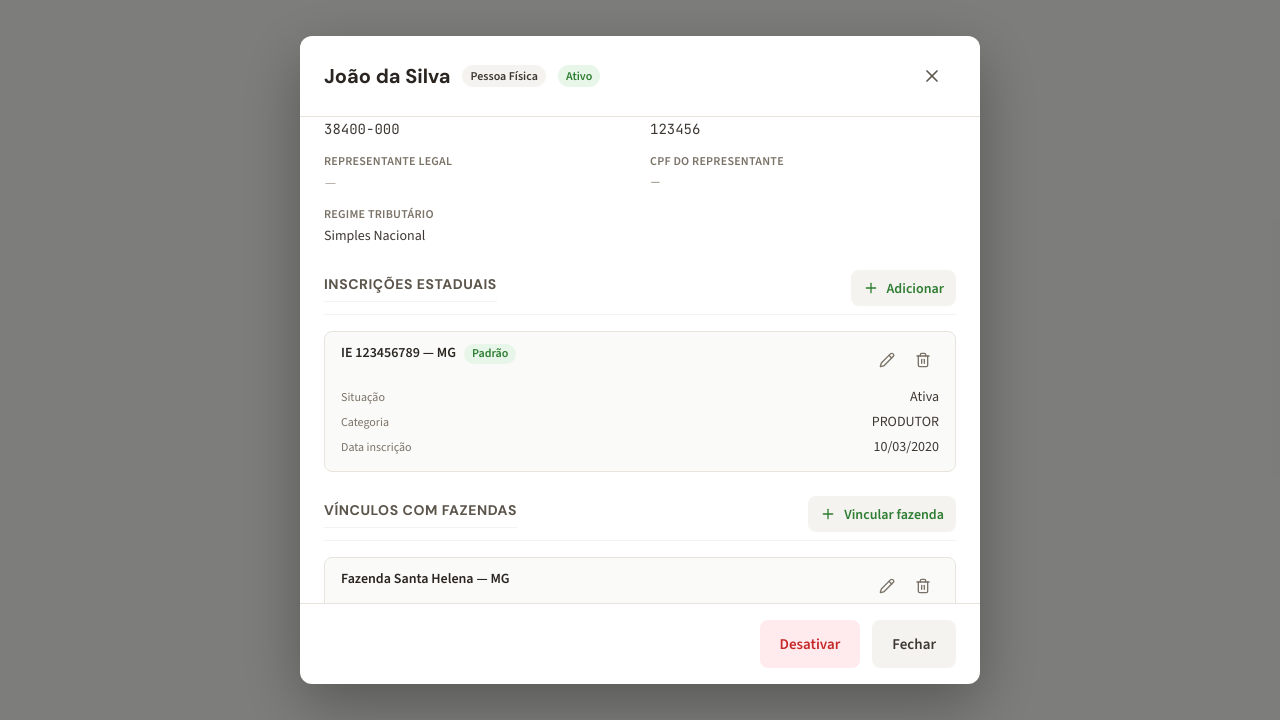
Test: ProducerDetailModal › should show delete IE confirmation modal on trash click
This screenshot has width=1280, height=720.
(page scrolled)
Click the button named "Excluir IE 123456789". click: (923, 360)
box: [907,344,939,376]
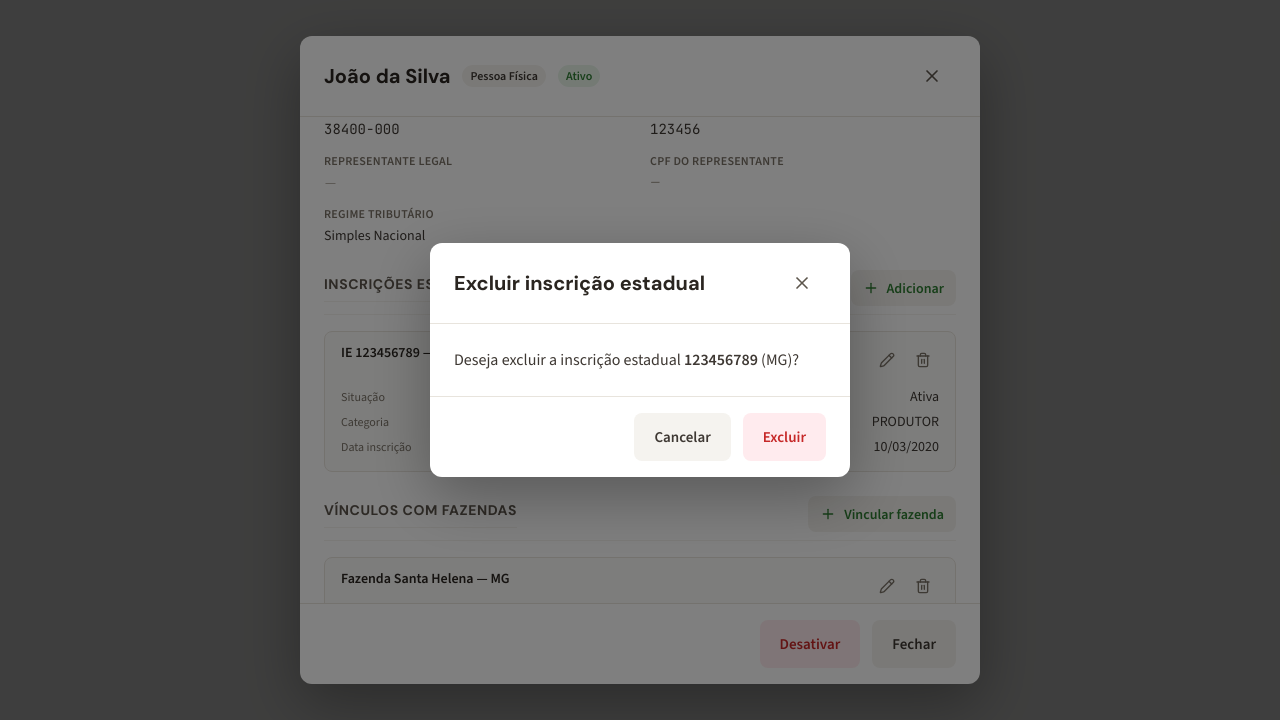
Now the heading "Excluir inscrição estadual" is shown, box [454,270,705,296]
